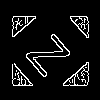Z: (25, 24, 80, 79)
